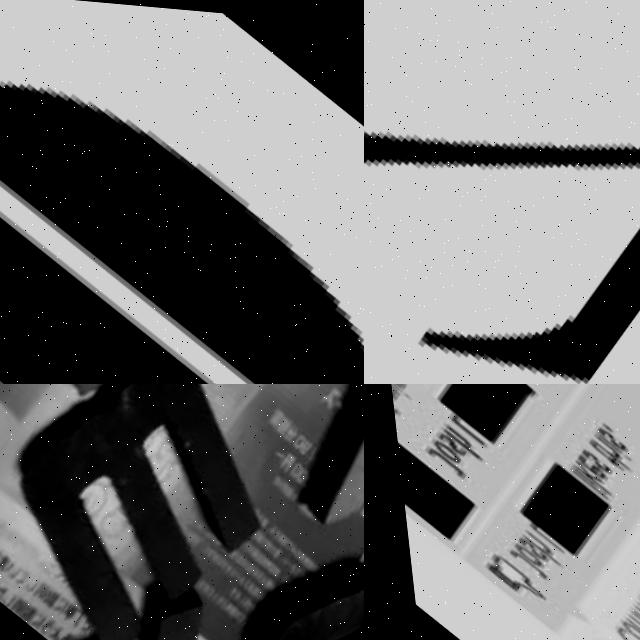2: (385, 384, 397, 419)
7: (364, 0, 640, 384)
O: (0, 72, 364, 384)
S: (126, 479, 364, 640)
W: (0, 384, 311, 640)
X: (208, 384, 364, 560)
